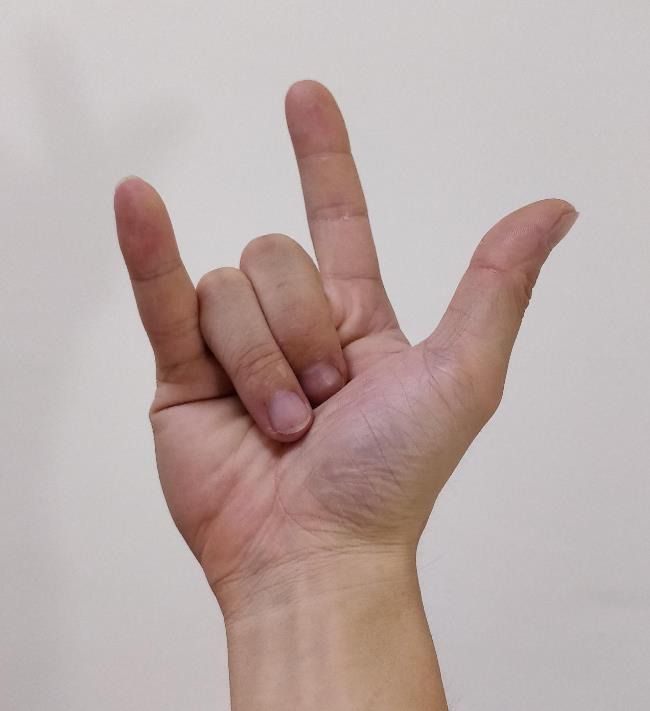back: (103, 72, 581, 550)
